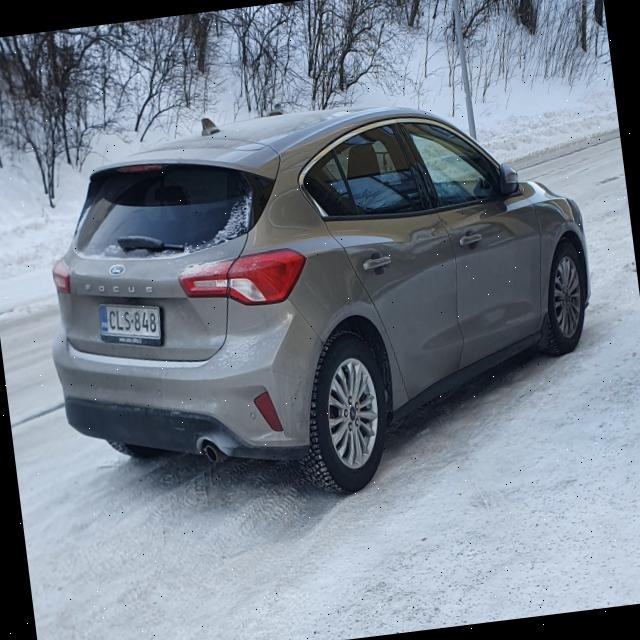License-plate: (98, 296, 167, 346)
